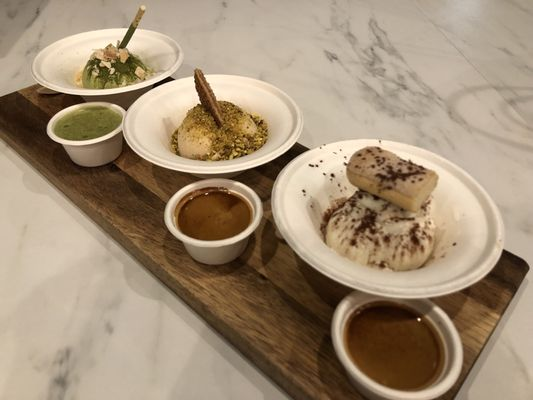pizza: (330, 292, 464, 400)
salad: (118, 4, 147, 58)
sushi: (122, 71, 303, 176), (31, 30, 184, 100), (163, 178, 264, 266), (46, 101, 126, 168)
